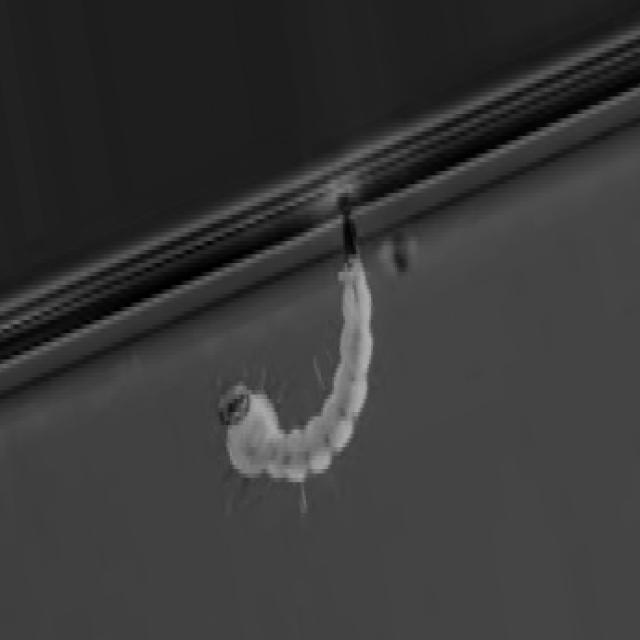larvas: (220, 213, 372, 479)
